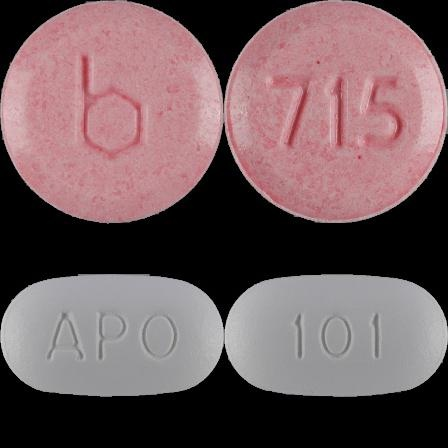54868-4814: (0, 0, 224, 224)
